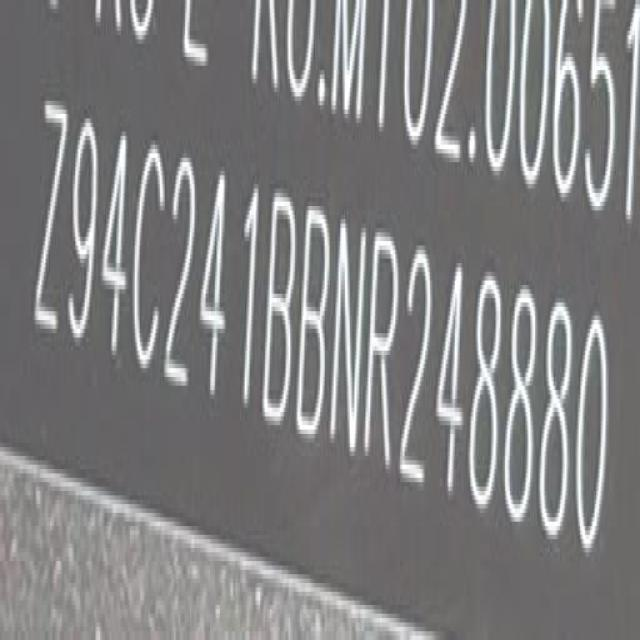0: (577, 309, 607, 560)
1: (238, 177, 258, 404)
2: (399, 244, 433, 500), (164, 154, 196, 401)
4: (433, 258, 464, 503), (100, 130, 129, 367), (199, 167, 227, 395)
8: (538, 298, 574, 540), (467, 264, 502, 510), (506, 281, 538, 528)
9: (66, 104, 100, 352)
B: (295, 201, 330, 445), (263, 185, 297, 427)
C: (133, 136, 163, 375)
N: (331, 224, 366, 448)
R: (364, 229, 401, 467)
Z: (33, 86, 67, 343)
